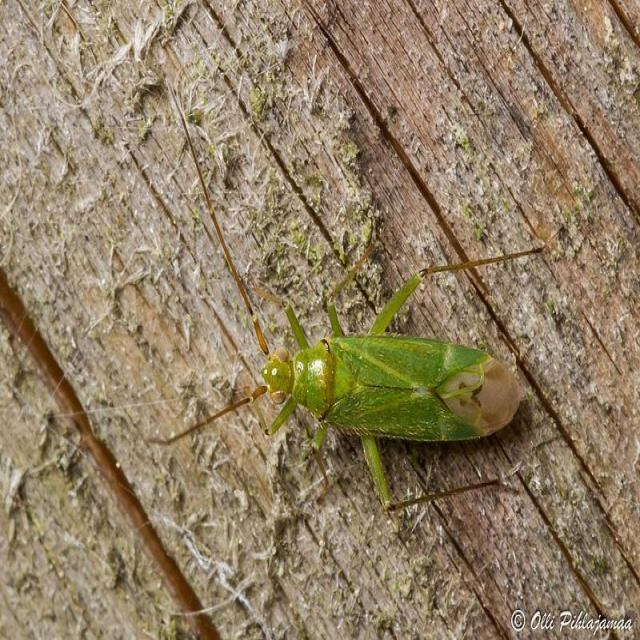Miridae-Adult-: (149, 73, 561, 515)
